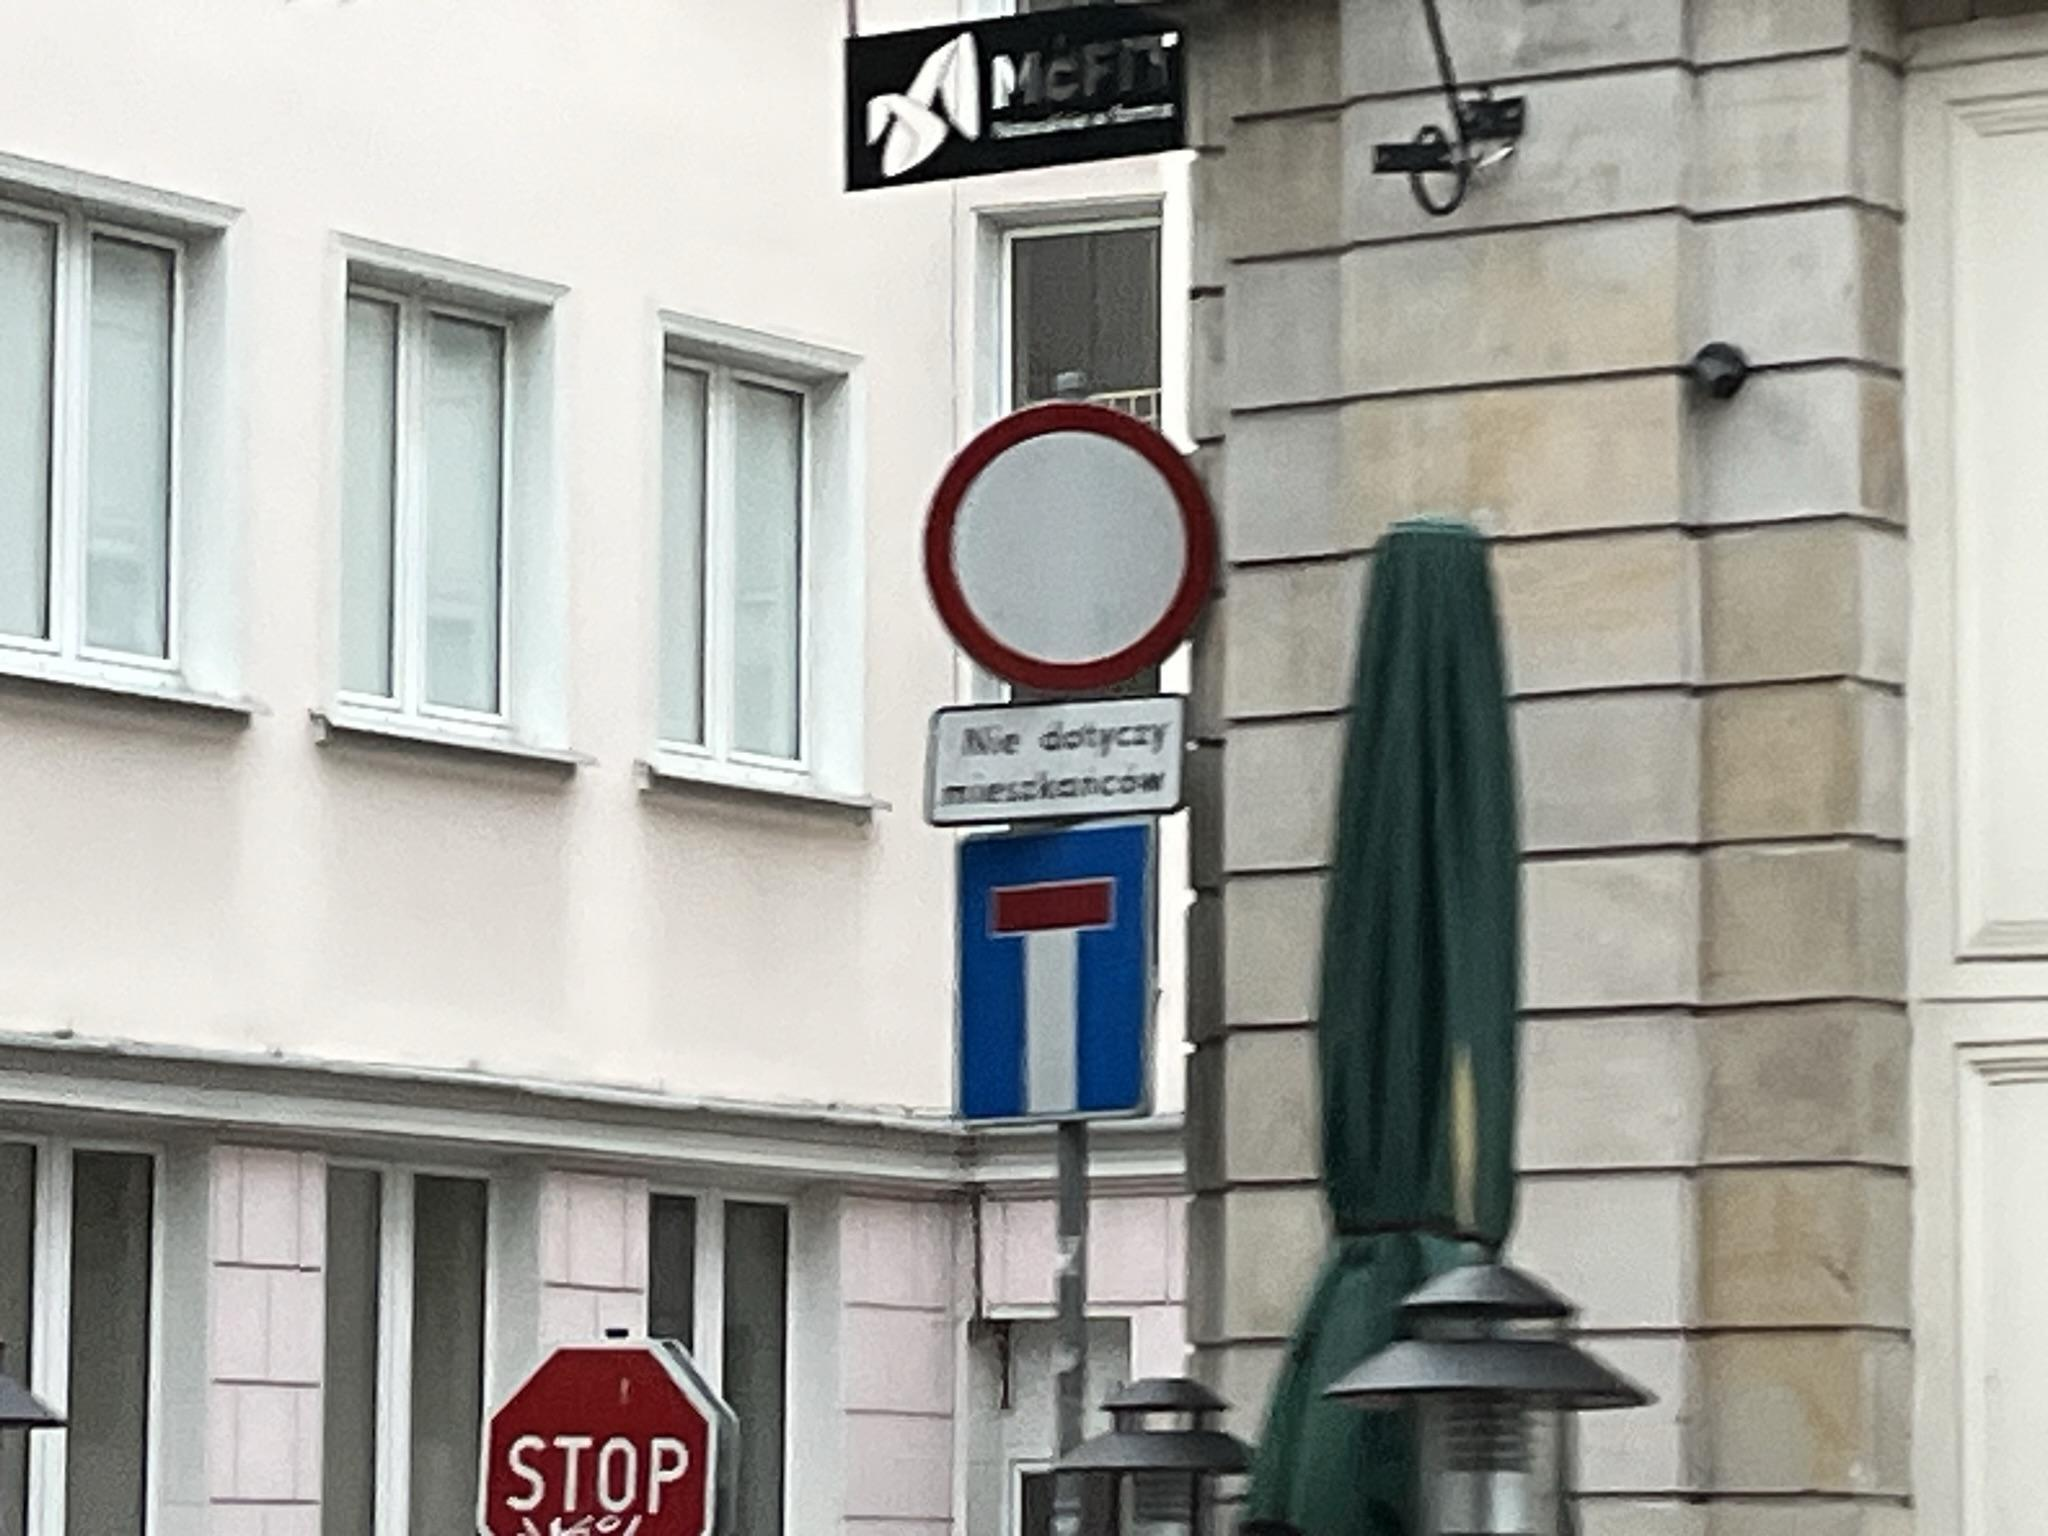information: (951, 816, 1159, 1129)
other: (927, 694, 1193, 828)
prohibitory: (921, 395, 1229, 694), (476, 1333, 742, 1536)
